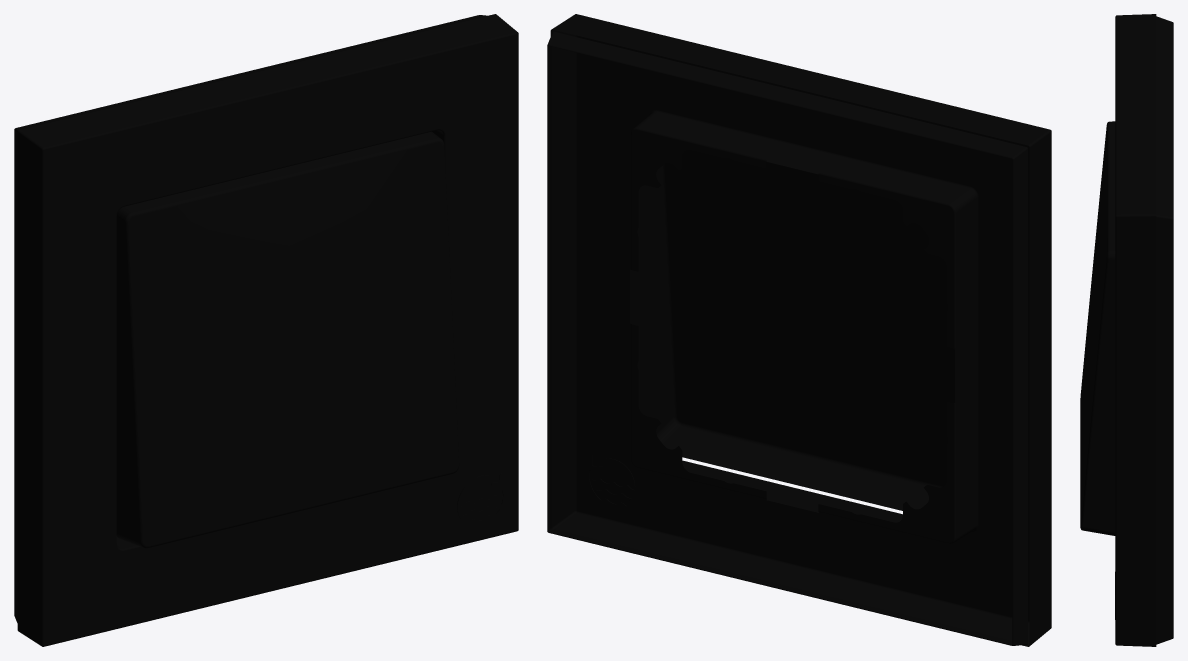
File: MEG4010-3603_MEG3300-0403.glb
3 views of the same model, side by side, from view 1: azimuth 30°, elevation 25°; view 2: azimuth 150°, elevation 25°; view 3: azimuth 270°, elevation 25° (orthographic). The views are drawn at different scales.
Parts seen in each view (by area): view 1: MEG4010-3603_Baked, MEG3300-0403_Baked; view 2: MEG4010-3603_Baked, MEG3300-0403_Baked; view 3: MEG4010-3603_Baked, MEG3300-0403_Baked.
Boxes of the visible parts, x1,y1,x2,y2 form: MEG4010-3603_Baked: [14, 14, 518, 646]; MEG3300-0403_Baked: [116, 131, 459, 548]; MEG4010-3603_Baked: [547, 14, 1051, 646]; MEG3300-0403_Baked: [638, 150, 954, 510]; MEG4010-3603_Baked: [1115, 14, 1173, 646]; MEG3300-0403_Baked: [1080, 121, 1115, 535].
Size of the model in its own units: 0.0827 by 0.0827 by 0.0162.
Materials: 2 (2 with a texture image).
